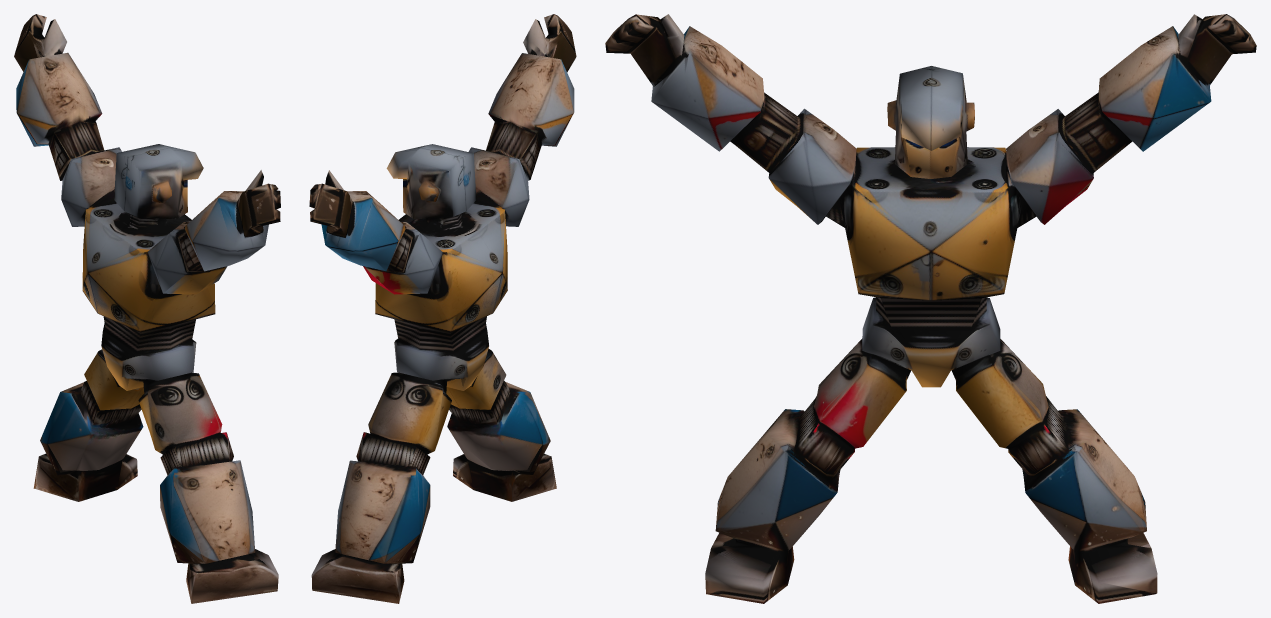
Rendered from low-poly+humanoid+3d+model.fbx.
3 views of the same model, side by side, from view 1: azimuth 30°, elevation 25°; view 2: azimuth 150°, elevation 25°; view 3: azimuth 270°, elevation 25° (orthographic). The views are drawn at different scales.
Parts seen in each view (by area): view 1: tripo_node_cdb207b5; view 2: tripo_node_cdb207b5; view 3: tripo_node_cdb207b5.
Boxes of the visible parts, x1,y1,x2,y2 form: tripo_node_cdb207b5: (14,14,280,603); tripo_node_cdb207b5: (309,14,576,603); tripo_node_cdb207b5: (605,14,1256,603).
Bounding box in the file's own units: 0.2769 × 0.952 × 1.
1 material, 1 textured.
